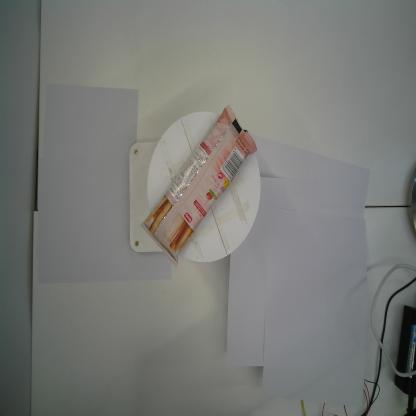Dessert: (140, 102, 258, 270)
